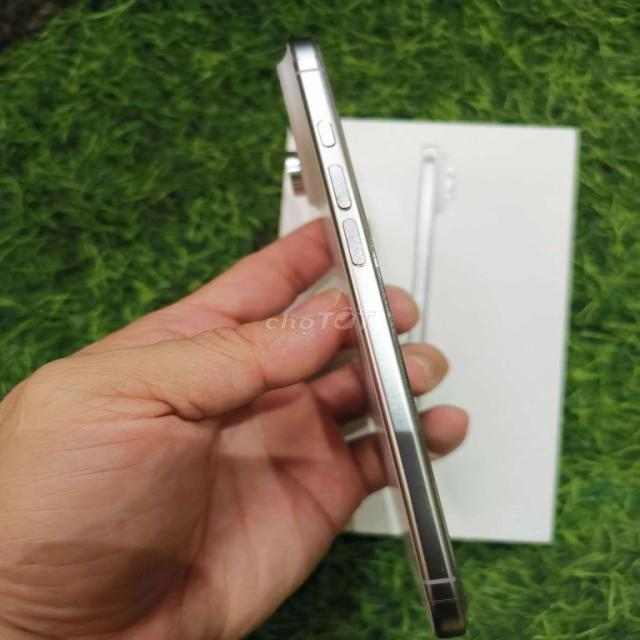gen_17: (264, 29, 494, 635)
